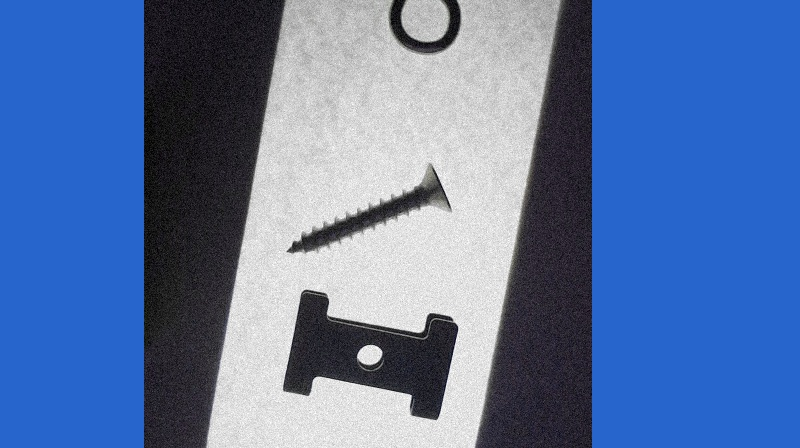O001: (362, 0, 472, 57)
O002: (280, 286, 460, 425)
S001: (279, 154, 453, 262)
